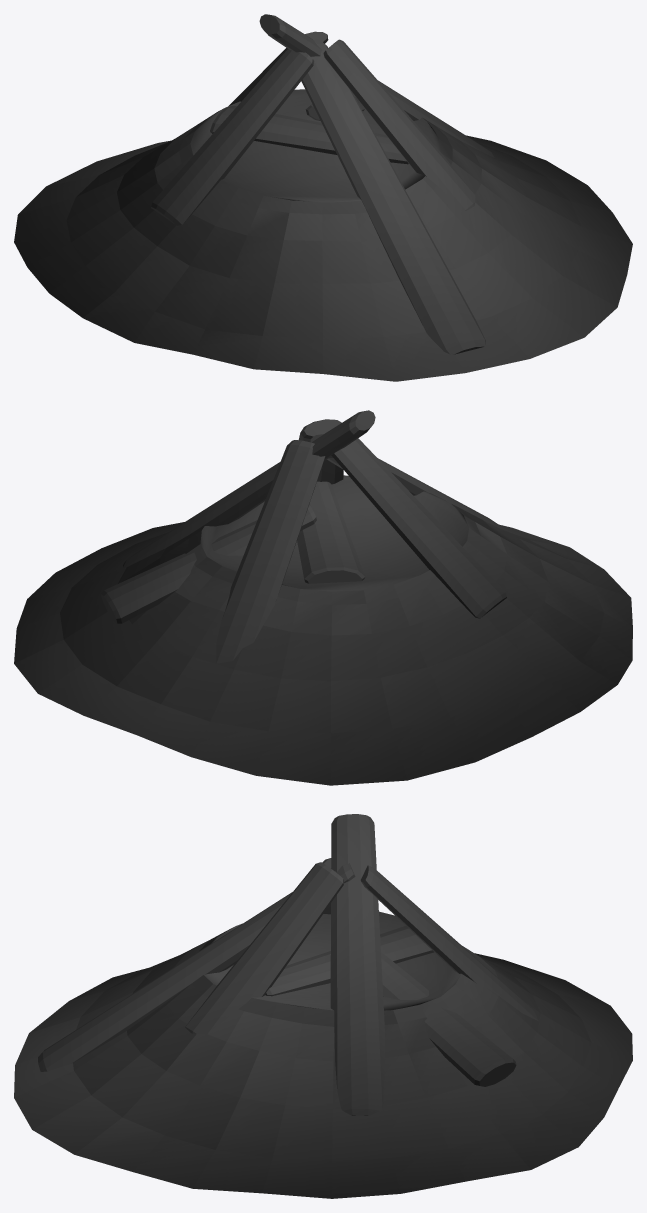
File: Burned_house.FBX
3 renders of one model, top to bottom at view 1: azimuth 30°, elevation 25°; view 2: azimuth 150°, elevation 25°; view 3: azimuth 270°, elevation 25°, orthographic. The views are drawn at different scales.
Visible parts, largest first — view 1: burned_House; view 2: burned_House; view 3: burned_House.
Part boxes in pixels (bbox=[...]): burned_House: bbox=[14, 14, 632, 381]; burned_House: bbox=[14, 410, 632, 785]; burned_House: bbox=[14, 814, 632, 1198].
Bounding box in the file's own units: 101 × 46.92 × 103.
Materials: 1 (1 with a texture image).
